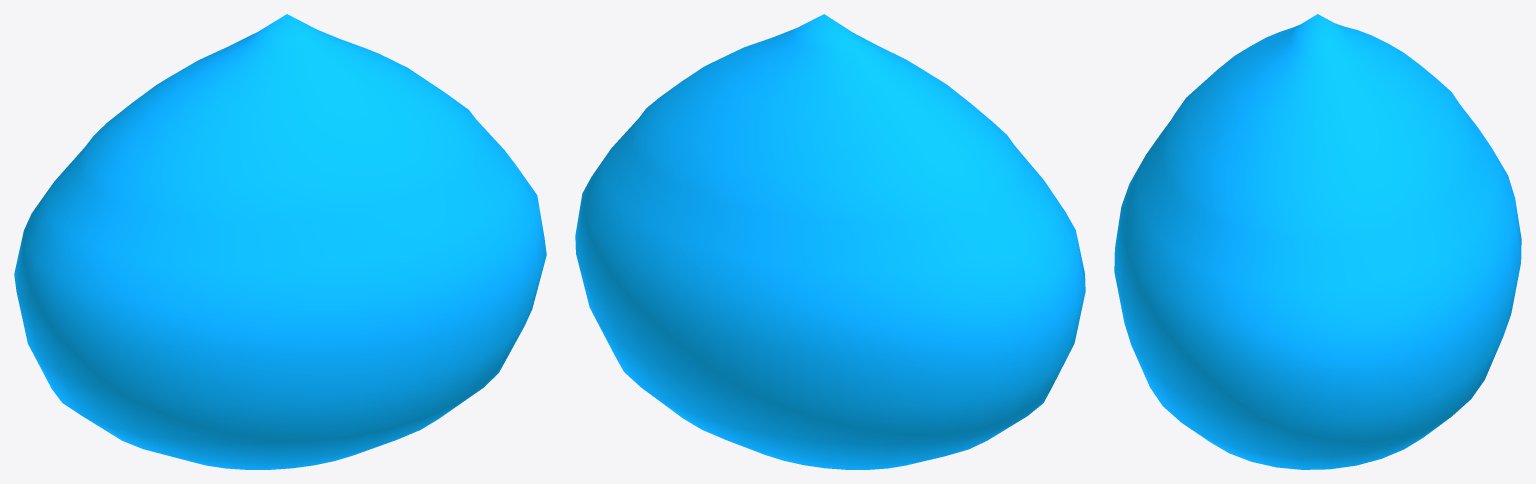
3 views of the same model, side by side, from view 1: azimuth 30°, elevation 25°; view 2: azimuth 150°, elevation 25°; view 3: azimuth 270°, elevation 25° (orthographic).
Parts seen in each view (by area): view 1: Circle.000; view 2: Circle.000; view 3: Circle.000.
Boxes of the visible parts, x1,y1,x2,y2 form: Circle.000: (14, 14, 546, 469); Circle.000: (575, 14, 1085, 469); Circle.000: (1114, 14, 1521, 469).
Bounding box in the file's own units: 2.54 × 2.19 × 1.9.
